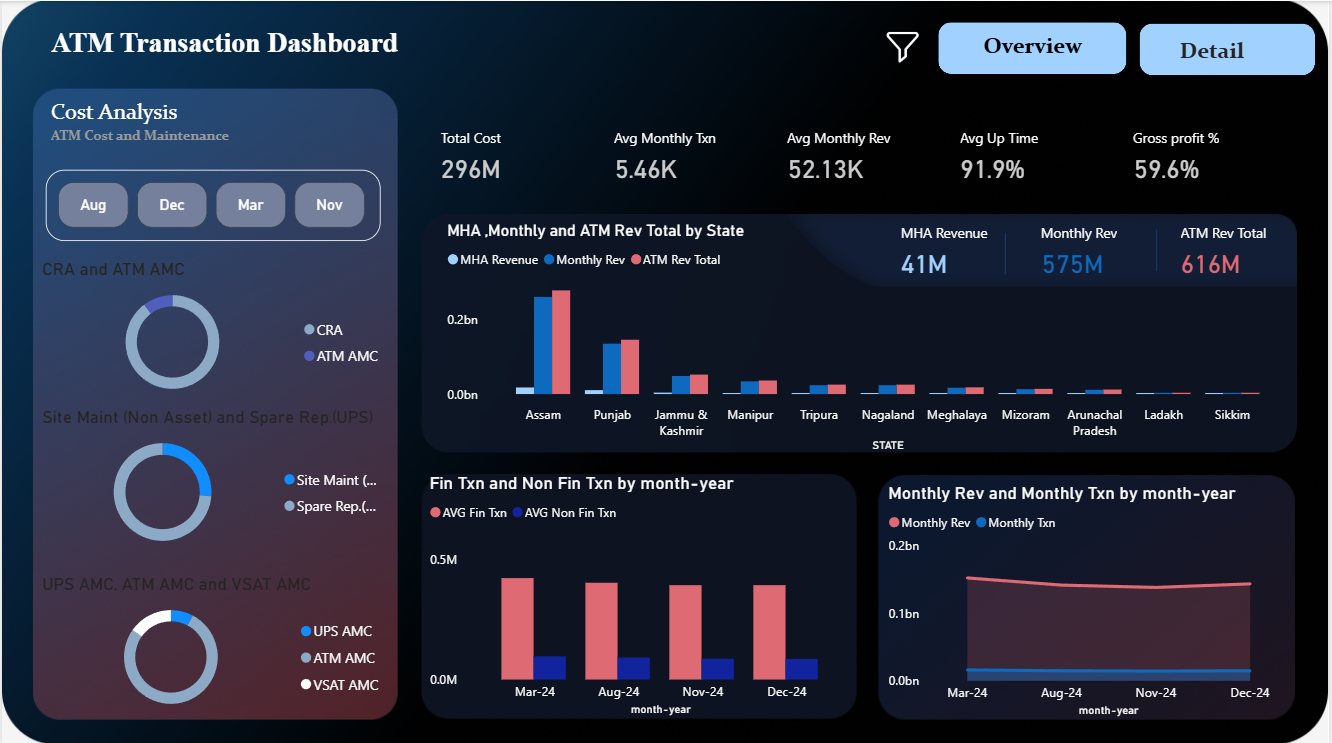

Layout of this report page (visuals, bound fields, positions):
{"tool":"powerbi","page":{"name":"Overview","canvas":[1280,720],"ordinal":0},"visuals":[{"type":"donutChart","fields":{"Y":["Sum(Dataset.CRA)","Sum(Dataset.ATM AMC)"]},"box":[33.8,248.5,343.8,142.4],"z":0},{"type":"donutChart","fields":{"Y":["Sum(Dataset.UPS AMC)","Sum(Dataset.ATM AMC)","Sum(Dataset.VSAT AMC)"]},"box":[33.8,552.5,343.8,142.4],"z":1000},{"type":"donutChart","fields":{"Y":["Sum(Dataset.Site Maint (Non Asset))","Sum(Dataset.Spare Rep.(UPS))"]},"box":[33.8,390.9,343.8,147.2],"z":2000},{"type":"clusteredColumnChart","title":"MHA ,Monthly and ATM Rev Total by State","fields":{"Y":["Sum(Dataset.MHA Revenue)","Sum(Dataset.Monthly Rev)","Sum(Dataset.ATM Rev Total)"],"Category":["Dataset.STATE"]},"box":[424.7,212.3,821.6,228],"z":3000},{"type":"clusteredColumnChart","title":"Fin Txn and Non Fin Txn  by month-year","fields":{"Y":["Sum(Dataset.AVG Fin Txn)","Sum(Dataset.AVG Non Fin Txn)"],"Category":["Dataset.month-year"]},"box":[407.8,454.8,419.8,240.1],"z":4000},{"type":"areaChart","title":"Monthly Rev and Monthly Txn by month-year","fields":{"Category":["Dataset.month-year"],"Y":["Sum(Dataset.Monthly Rev)","Sum(Dataset.Monthly Txn)"]},"box":[850.5,464.5,395.7,231.6],"z":5000},{"type":"advancedSlicerVisual","fields":{"Values":["Dataset.short_month"]},"box":[42.2,162.9,323.3,68.8],"z":6000},{"type":"textbox","box":[42.7,89,323.2,61],"z":7000},{"type":"cardVisual","fields":{"Data":["Sum(Dataset. Total Cost  )","Avg(Dataset.Monthly Txn)","Avg(Dataset.Monthly Rev)","Avg(Dataset.Up Time)","Dataset.Gross profit Percentage"]},"box":[406.6,101.3,839.7,96.5],"z":8000},{"type":"cardVisual","fields":{"Data":["Sum(Dataset.MHA Revenue)","Sum(Dataset.Monthly Rev)","Sum(Dataset.ATM Rev Total)"]},"box":[850.5,197.9,407.8,79.6],"z":9000},{"type":"textbox","box":[42.7,20.7,406.1,46.3],"z":10000},{"type":"image","box":[835.4,20.7,68.3,46.3],"z":12000},{"type":"shape","box":[903.7,20.7,181.7,50],"z":13000},{"type":"textbox","box":[942.7,25.6,125.6,41.5],"z":14000},{"type":"shape","box":[1097.6,22,169.5,50],"z":14001},{"type":"textbox","box":[1131.7,30.5,125.6,41.5],"z":14002}]}

Visuals, with their boxes in screenshot pixels (x1, y1, x2, y2), scaled from the page's 1280x720 canvas onto the 1332x743 screenshot:
donutChart - Sum(Dataset.CRA) x Sum(Dataset.ATM AMC): <bbox>35, 256, 393, 403</bbox>
donutChart - Sum(Dataset.UPS AMC) x Sum(Dataset.ATM AMC): <bbox>35, 570, 393, 717</bbox>
donutChart - Sum(Dataset.Site Maint (Non Asset)) x Sum(Dataset.Spare Rep.(UPS)): <bbox>35, 403, 393, 555</bbox>
"MHA ,Monthly and ATM Rev Total by State" clusteredColumnChart: <bbox>442, 219, 1297, 454</bbox>
"Fin Txn and Non Fin Txn  by month-year" clusteredColumnChart: <bbox>424, 469, 861, 717</bbox>
"Monthly Rev and Monthly Txn by month-year" areaChart: <bbox>885, 479, 1297, 718</bbox>
advancedSlicerVisual - Dataset.short_month: <bbox>44, 168, 380, 239</bbox>
textbox: <bbox>44, 92, 381, 155</bbox>
cardVisual - Sum(Dataset. Total Cost  ) x Avg(Dataset.Monthly Txn): <bbox>423, 105, 1297, 204</bbox>
cardVisual - Sum(Dataset.MHA Revenue) x Sum(Dataset.Monthly Rev): <bbox>885, 204, 1309, 286</bbox>
textbox: <bbox>44, 21, 467, 69</bbox>
image: <bbox>869, 21, 940, 69</bbox>
shape: <bbox>940, 21, 1129, 73</bbox>
textbox: <bbox>981, 26, 1112, 69</bbox>
shape: <bbox>1142, 23, 1319, 74</bbox>
textbox: <bbox>1178, 31, 1308, 74</bbox>
